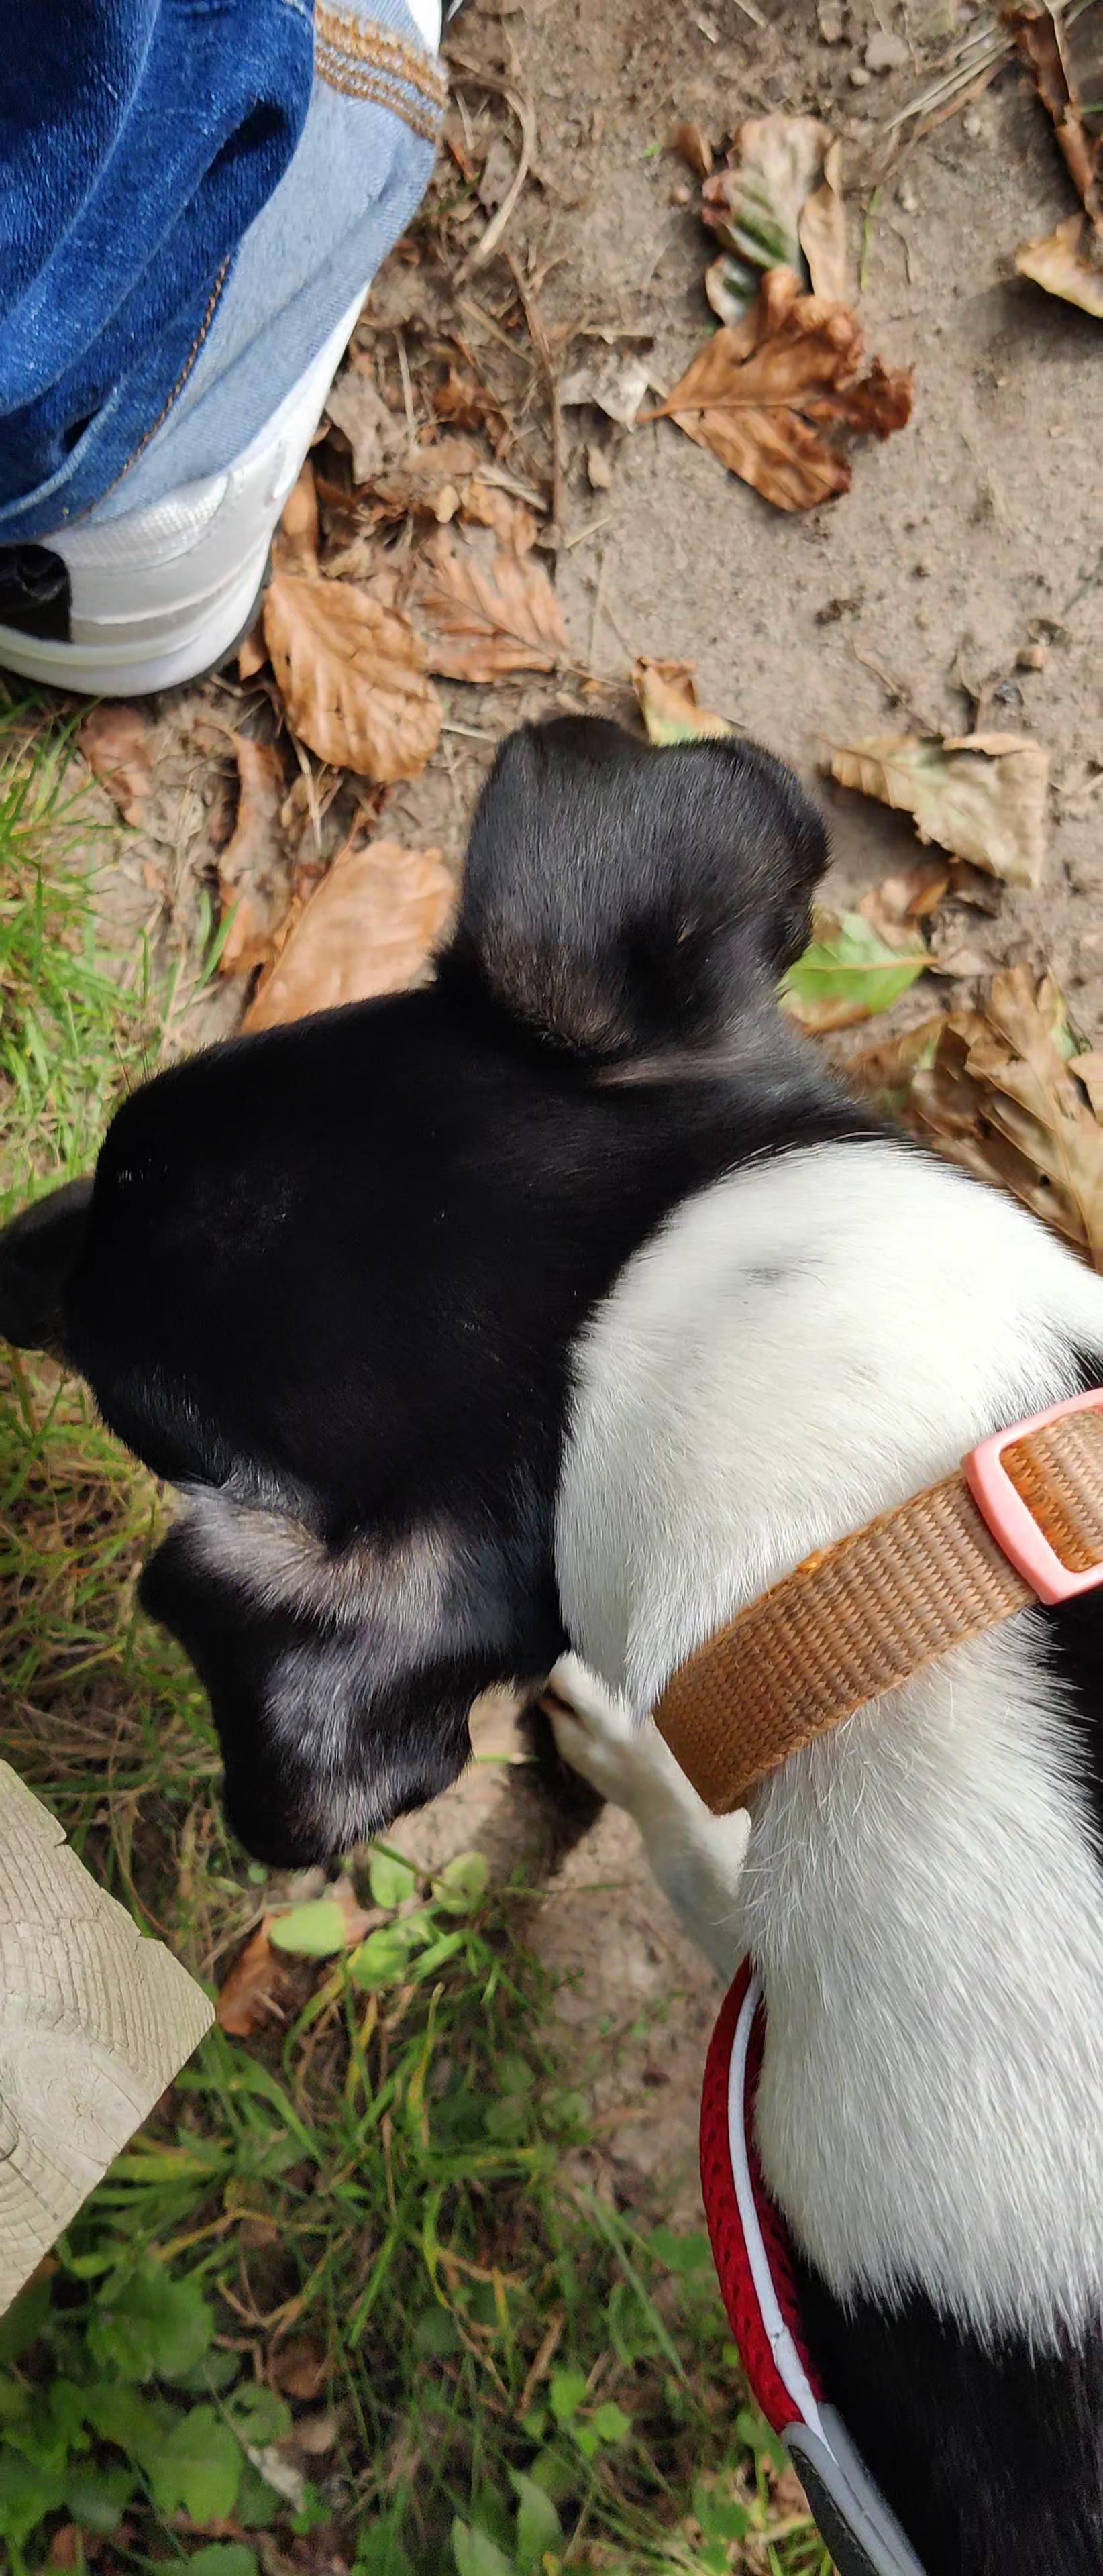Dog: (0, 692, 1103, 2576)
